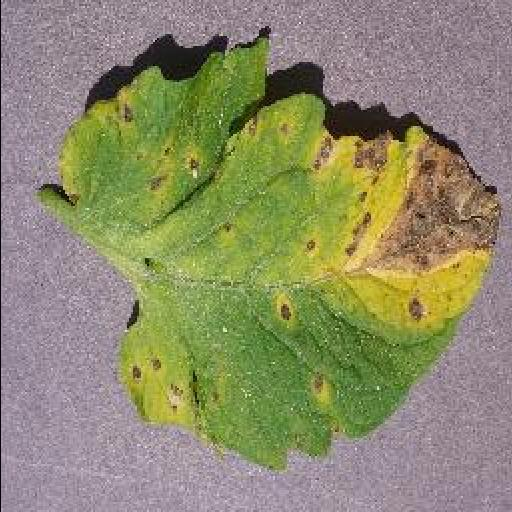disease_tomato: (62, 36, 502, 474)
